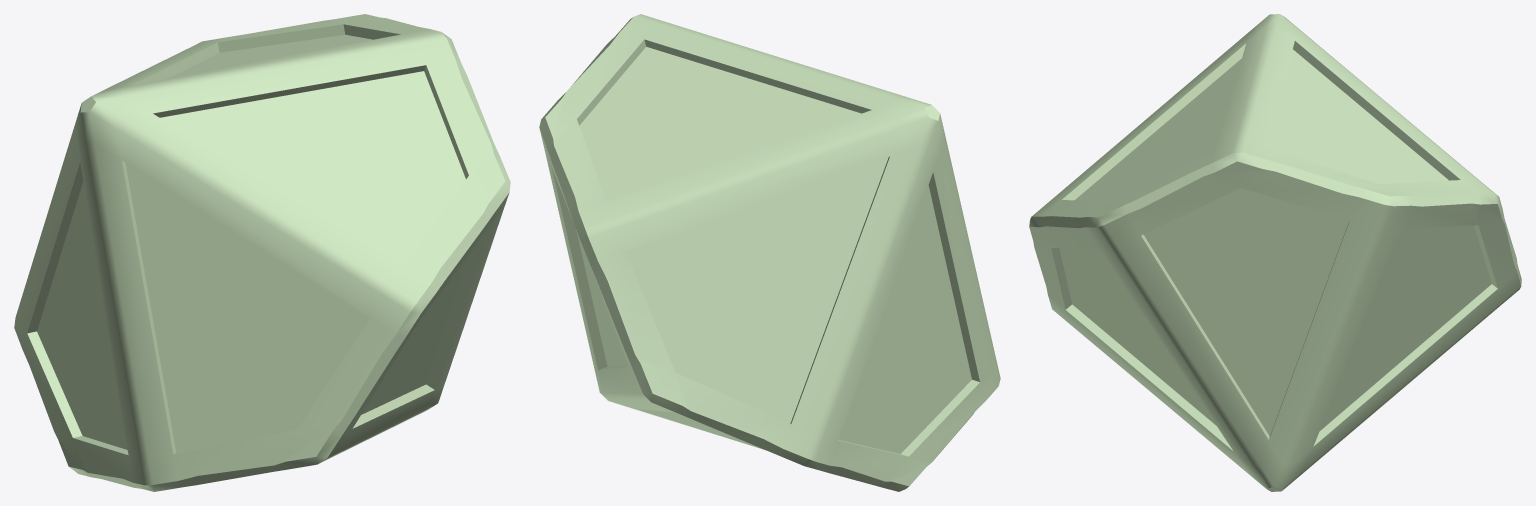
3 views of the same model, side by side, from view 1: azimuth 30°, elevation 25°; view 2: azimuth 150°, elevation 25°; view 3: azimuth 270°, elevation 25° (orthographic). The views are drawn at different scales.
Parts seen in each view (by area): view 1: Barril.002; view 2: Barril.002; view 3: Barril.002.
Part boxes in pixels (left/top/right/bottom): Barril.002: left=14, top=14, right=510, bottom=491; Barril.002: left=539, top=14, right=1000, bottom=491; Barril.002: left=1029, top=14, right=1521, bottom=491.
Size of the model in its own units: 0.1981 by 0.2072 by 0.2737.
